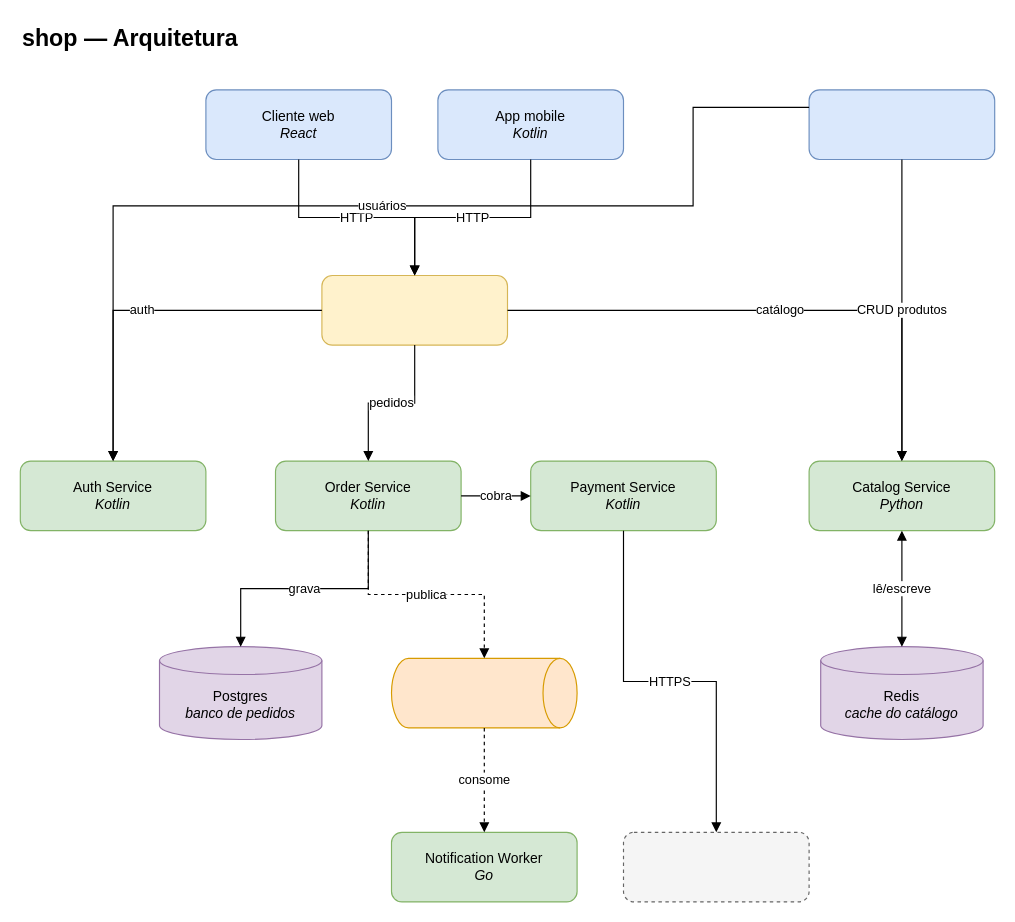
The diagram is 1015 pixels wide and 922 high, and some of its shapes have lost their labels. The centre of each missing label's shape, as x and y in pixels:
Admin backoffice React: point (901, 124)
API Gateway Go: point (414, 309)
Gateway de pagamento externo: point (715, 866)
Kafka eventos de pedido: point (483, 692)
